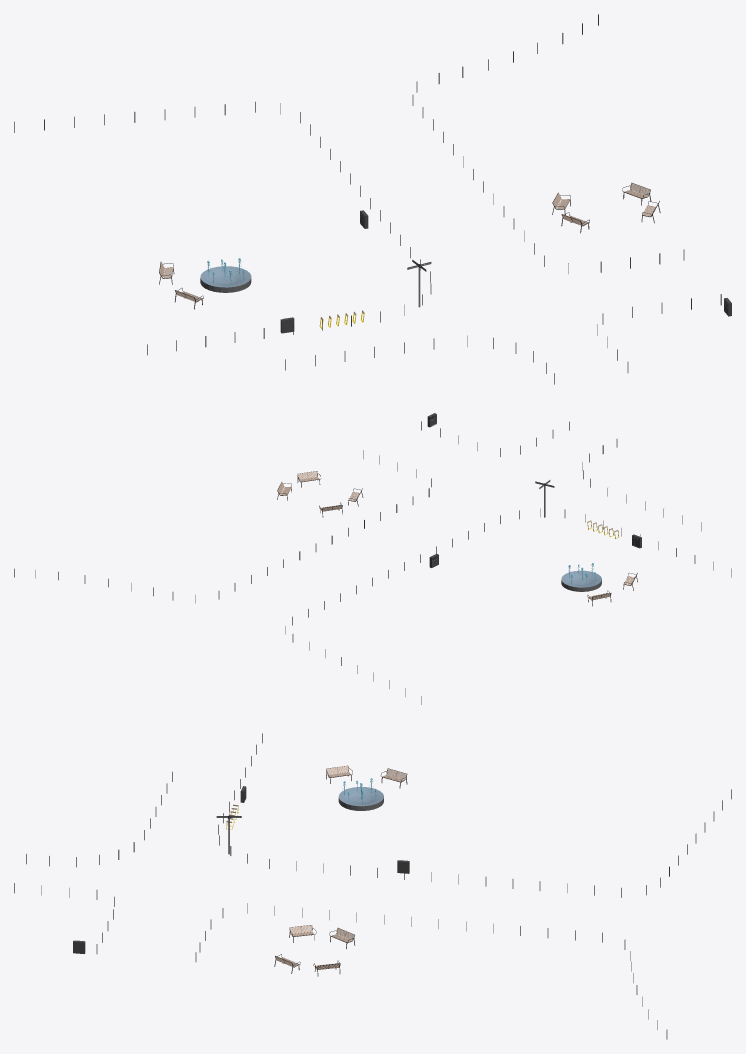
File: mobiliarNew3.glb
3 views of the same model, one above another, from view 1: azimuth 30°, elevation 25°; view 2: azimuth 150°, elevation 25°; view 3: azimuth 270°, elevation 25° (orthographic). The views are drawn at different scales.
Parts seen in each view (by area): view 1: new mobiliar remeshed with poles.001; view 2: new mobiliar remeshed with poles.001; view 3: new mobiliar remeshed with poles.001.
Part boxes in pixels (<box>): new mobiliar remeshed with poles.001: <box>14,14,731,384</box>; new mobiliar remeshed with poles.001: <box>14,413,731,704</box>; new mobiliar remeshed with poles.001: <box>14,733,731,1039</box>.
Size of the model in its own units: 50.32 by 3.07 by 51.47.
Materials: 13 (4 with a texture image).
